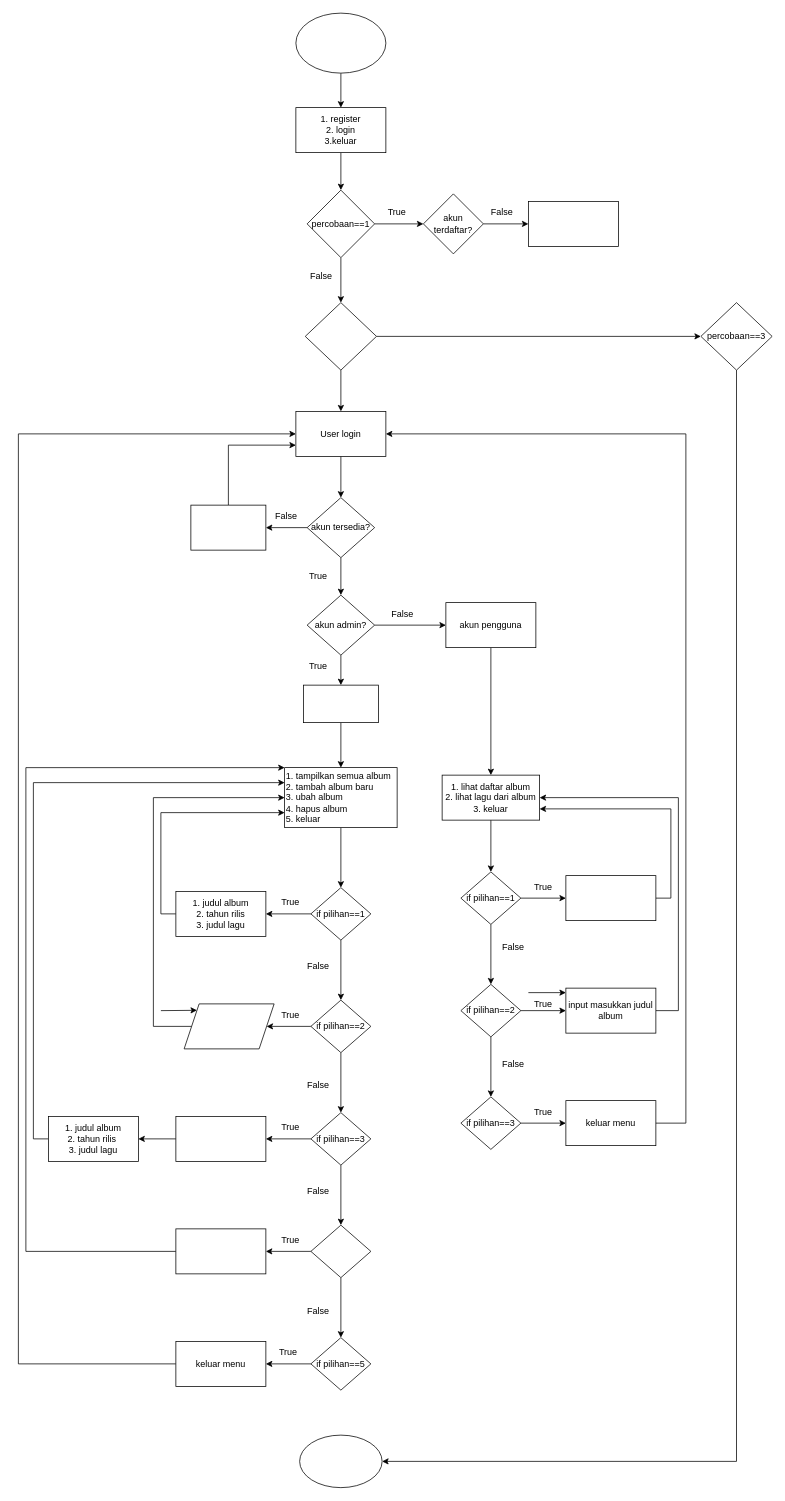
Some shapes in this 785 by 1501 pixel diagram are drawn without their labels. The shapes that lost their labels are listed below. From the top down, each one's centre as x and y in pixels, then its label:
the point at 340,42: start
the point at 573,223: akun tidak terdaftar
the point at 340,336: percobaan==2
the point at 228,527: nama/password salah
the point at 340,703: menu admin
the point at 610,898: daftar album
the point at 228,1026: input 1. judul album 2. tahun rilis 3. judul lagu
the point at 220,1138: pilih album
the point at 220,1251: hapus album
the point at 340,1251: if pilihan==4
the point at 340,1461: end
